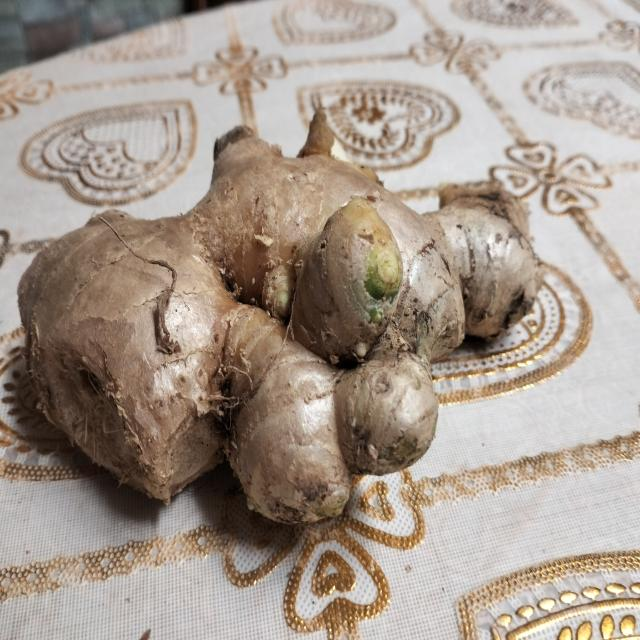ginger: (11, 95, 550, 540)
